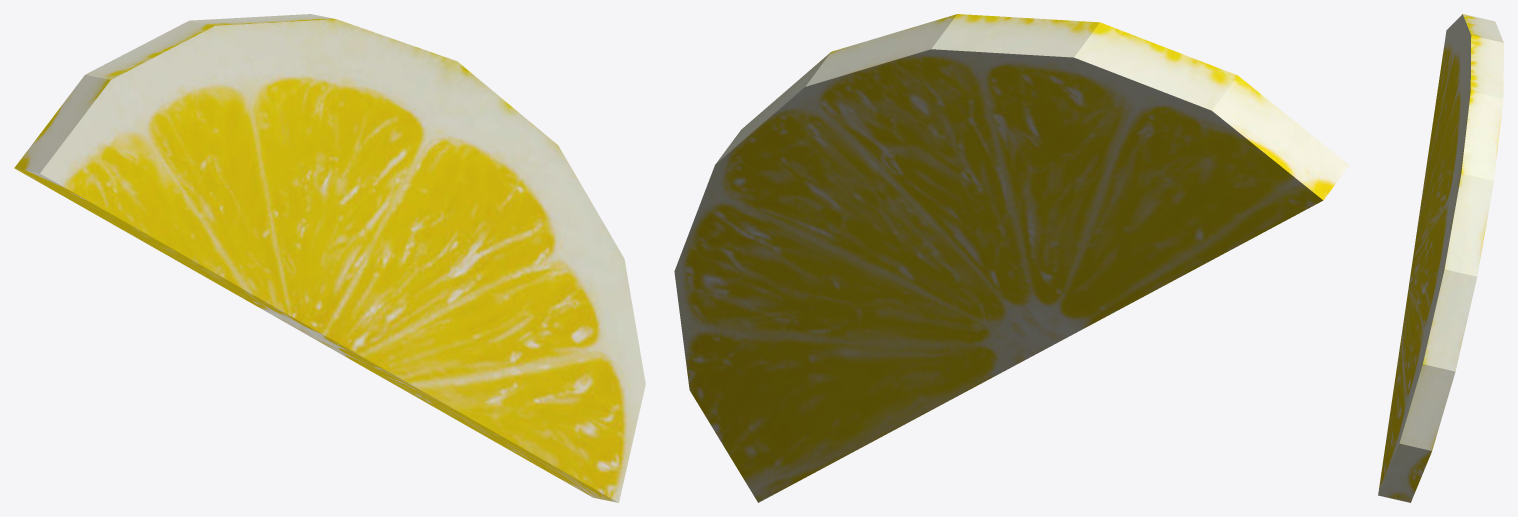
The model's file is Lemon.fbx.
The picture shows the model from 3 angles, left to right: view 1: azimuth 30°, elevation 25°; view 2: azimuth 150°, elevation 25°; view 3: azimuth 270°, elevation 25°; orthographic projection. The views are drawn at different scales.
Parts seen in each view (by area): view 1: Circle; view 2: Circle; view 3: Circle.
Part boxes in pixels (bbox=[...]): Circle: bbox=[14, 14, 645, 502]; Circle: bbox=[674, 14, 1349, 502]; Circle: bbox=[1378, 14, 1503, 502].
Size of the model in its own units: 37.01 by 32.14 by 10.3.
